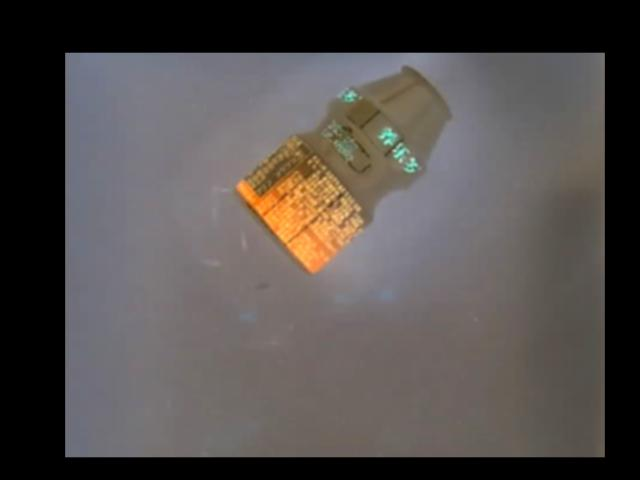Bottle: (232, 66, 453, 274)
